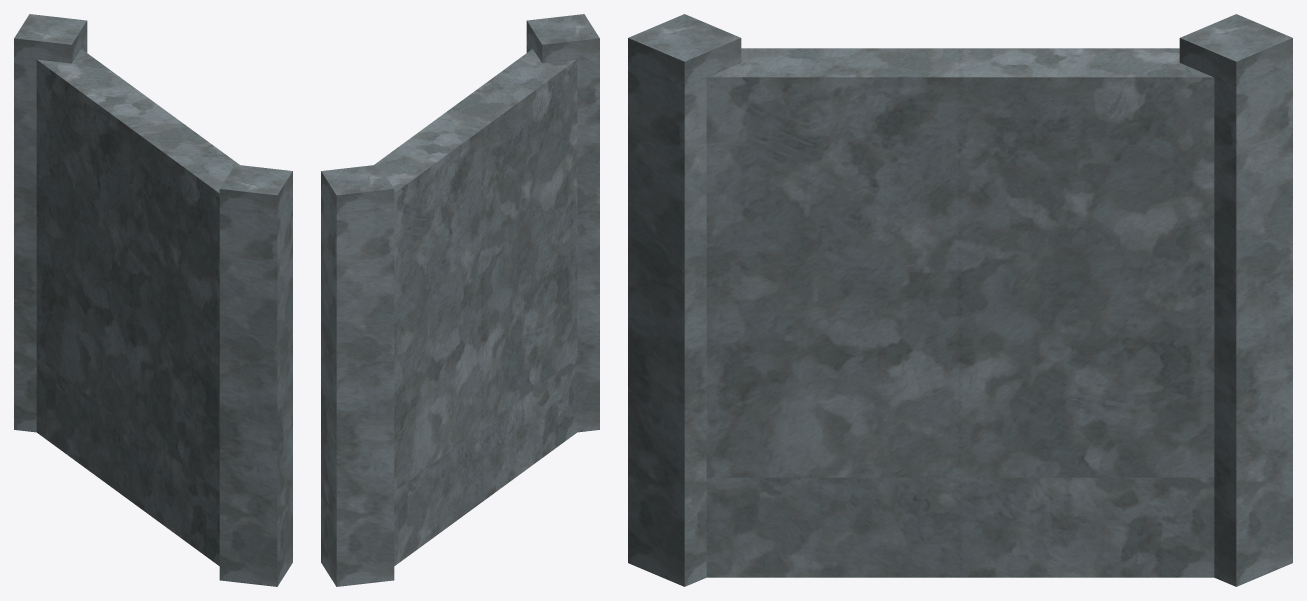
File: wall_framed.fbx
The picture shows the model from 3 angles, left to right: view 1: azimuth 30°, elevation 25°; view 2: azimuth 150°, elevation 25°; view 3: azimuth 270°, elevation 25°; orthographic projection. The views are drawn at different scales.
Parts seen in each view (by area): view 1: wall_edgesBorders; view 2: wall_edgesBorders; view 3: wall_edgesBorders.
Boxes of the visible parts, box(x1,y1,x2,y2) form: wall_edgesBorders: box(14, 14, 292, 586); wall_edgesBorders: box(321, 14, 599, 586); wall_edgesBorders: box(628, 14, 1292, 586).
Bounding box in the file's own units: 2.05 × 10.5 × 12.05.
Materials: 2 (1 with a texture image).
